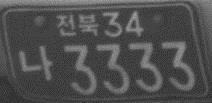3: (127, 41, 164, 94), (62, 44, 96, 95), (95, 43, 129, 94), (161, 40, 195, 91), (102, 11, 122, 38)
4: (124, 10, 145, 38)
나: (18, 44, 54, 82)
전북_O: (56, 12, 99, 38)
